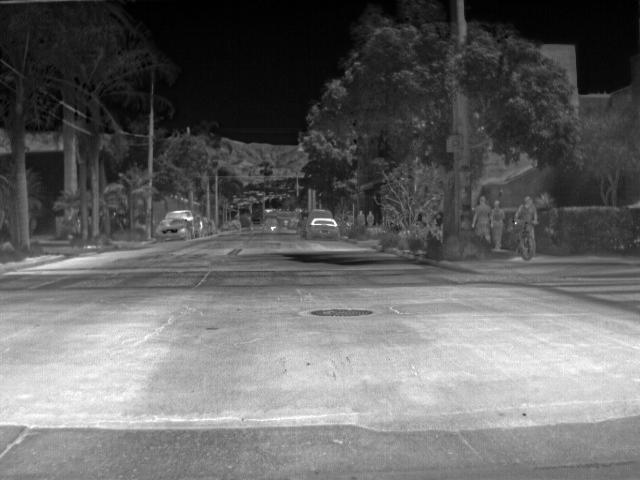car: (163, 210, 200, 236), (154, 216, 194, 238), (305, 219, 340, 241), (305, 209, 333, 221)
person: (514, 198, 540, 260), (486, 200, 507, 252), (473, 194, 489, 237), (364, 208, 377, 229), (354, 207, 366, 227)
